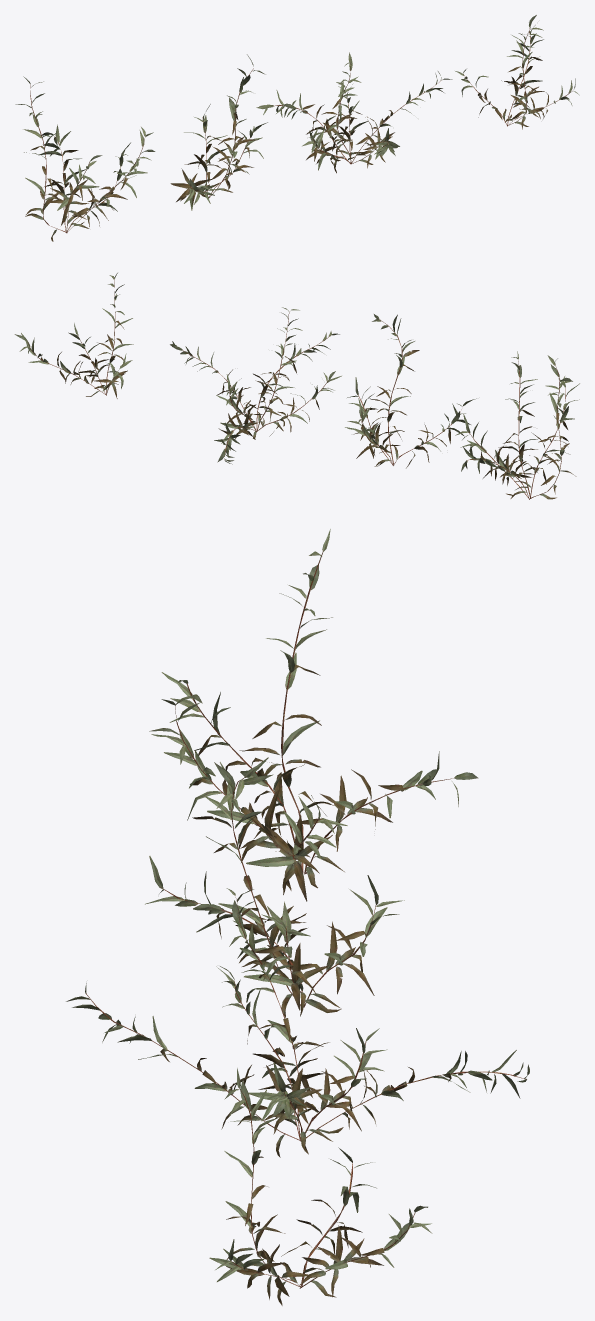
File: shrub_b.glb
3 renders of one model, top to bottom at view 1: azimuth 30°, elevation 25°; view 2: azimuth 150°, elevation 25°; view 3: azimuth 270°, elevation 25°, orthographic. The views are drawn at different scales.
Parts seen in each view (by area): view 1: shrub_02_a, shrub_02_c, shrub_02_b, shrub_02_d; view 2: shrub_02_a, shrub_02_c, shrub_02_b, shrub_02_d; view 3: shrub_02_a, shrub_02_c, shrub_02_b, shrub_02_d.
Boxes of the visible parts, <box> form: shrub_02_a: <box>15,76,155,241</box>; shrub_02_c: <box>256,52,452,173</box>; shrub_02_b: <box>170,54,267,210</box>; shrub_02_d: <box>455,15,579,129</box>; shrub_02_a: <box>455,351,579,499</box>; shrub_02_c: <box>170,307,341,464</box>; shrub_02_b: <box>345,314,476,468</box>; shrub_02_d: <box>14,273,133,398</box>; shrub_02_a: <box>149,529,478,901</box>; shrub_02_c: <box>66,888,529,1157</box>; shrub_02_b: <box>145,757,404,1017</box>; shrub_02_d: <box>209,1068,432,1305</box>.
Bounding box in the file's own units: 6.03 × 1.7 × 2.28.
Materials: 1 (1 with a texture image).
